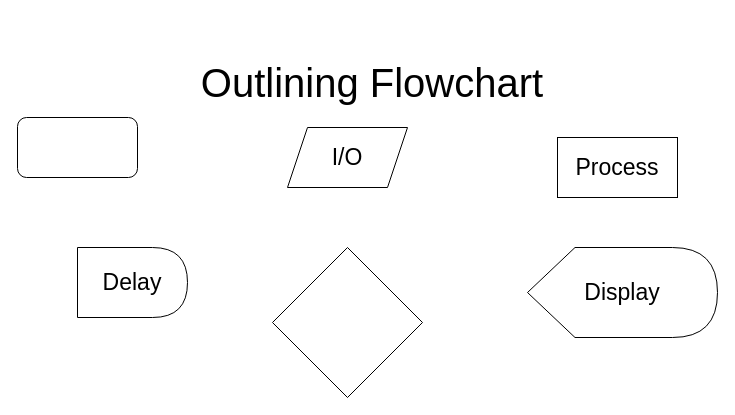
Image size: 735x415. Some labels were removed from this diagram. The shapes that lost their labels are listed below. From the top down, each one's centre as x and y in pixels, then its label:
(77,147): Start/end
(347,322): Decision
